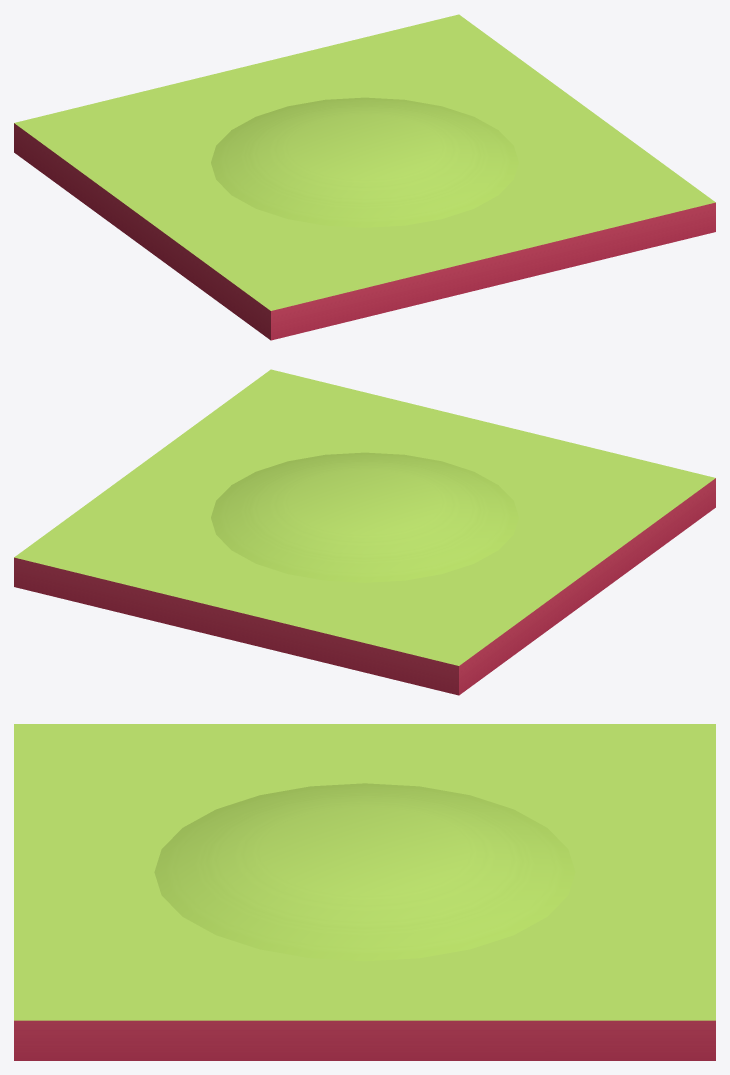
Rendered from bump.gltf.
3 views of the same model, one above another, from view 1: azimuth 30°, elevation 25°; view 2: azimuth 150°, elevation 25°; view 3: azimuth 270°, elevation 25° (orthographic). The views are drawn at different scales.
Visible parts, largest first — view 1: bump; view 2: bump; view 3: bump.
Part boxes in pixels (x1,y1,x2,y2): bump: (14,14,715,340); bump: (14,369,715,695); bump: (14,724,715,1060).
Size of the model in its own units: 0.9999 by 0.0967 by 0.9999.
1 material, 1 textured.
